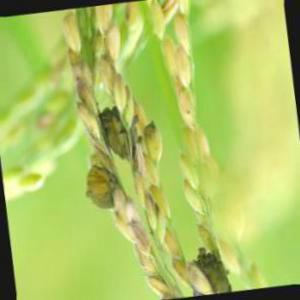Leaf_Scald: (94, 105, 132, 159), (191, 251, 230, 296), (89, 173, 114, 212)
